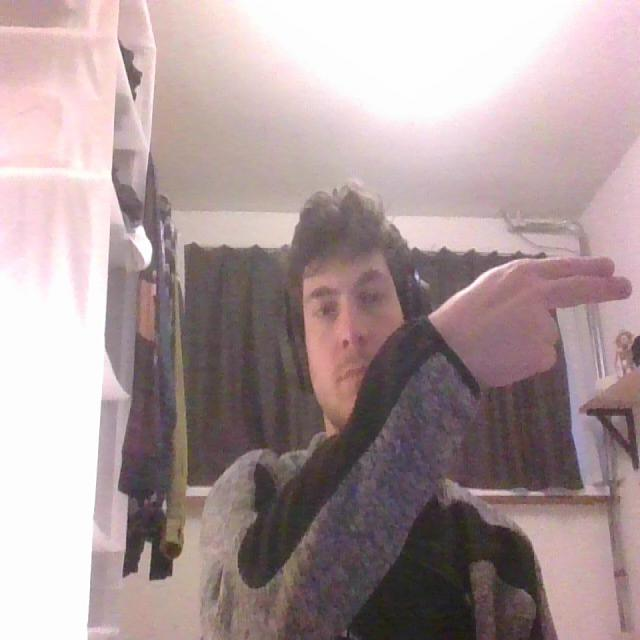right: (418, 246, 634, 394)
